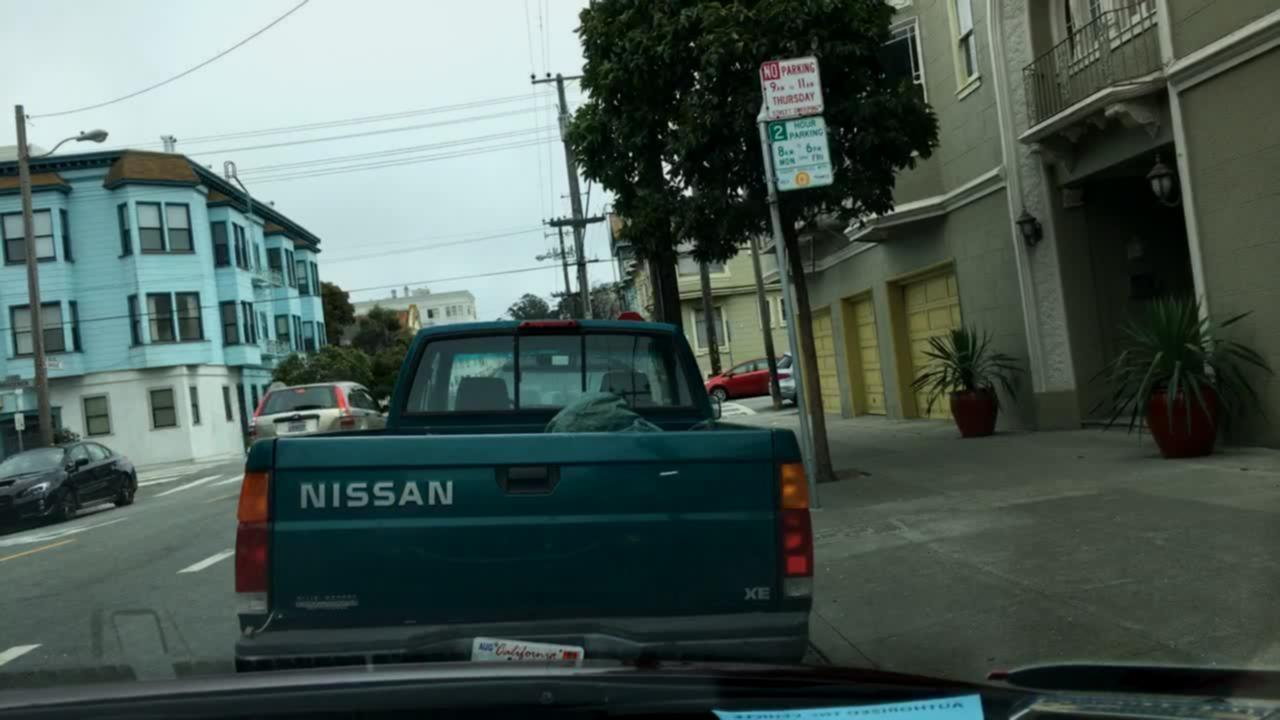Nissan: (290, 473, 467, 517)
